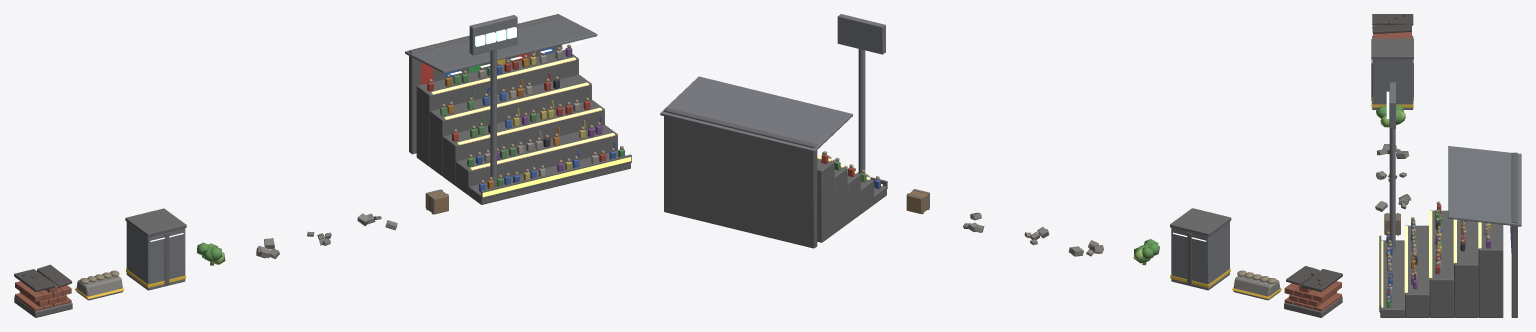
Rendered from props-coliseum.glb.
The picture shows the model from 3 angles, left to right: view 1: azimuth 30°, elevation 25°; view 2: azimuth 150°, elevation 25°; view 3: azimuth 270°, elevation 25°; orthographic projection. The views are drawn at different scales.
Parts seen in each view (by area): view 1: Grandstand, OuterWall, FloodTower, Wall, LowWall, Crate, Bush; view 2: Grandstand, OuterWall, FloodTower, Wall, LowWall, Crate; view 3: Grandstand, OuterWall, FloodTower, Wall, Bush, Crate, Rubble0, Rubble2, Rubble1.
Boxes of the visible parts, x1,y1,x2,y2 form: Grandstand: (405,14,631,204); OuterWall: (125,208,186,290); FloodTower: (469,15,517,187); Wall: (14,264,72,317); LowWall: (75,270,124,300); Crate: (425,189,448,214); Bush: (196,242,225,265); Grandstand: (660,76,887,248); OuterWall: (1170,208,1231,290); FloodTower: (837,14,885,173); Wall: (1284,266,1342,317); LowWall: (1232,270,1281,300); Crate: (906,189,929,214); Grandstand: (1379,146,1521,317); OuterWall: (1371,38,1413,109); FloodTower: (1386,82,1395,249); Wall: (1372,14,1413,38); Bush: (1376,105,1405,127); Crate: (1384,213,1400,235); Rubble0: (1376,144,1409,158); Rubble2: (1375,194,1411,211); Rubble1: (1376,171,1406,181).
Size of the model in its own units: 16.05 by 4.54 by 3.67.
